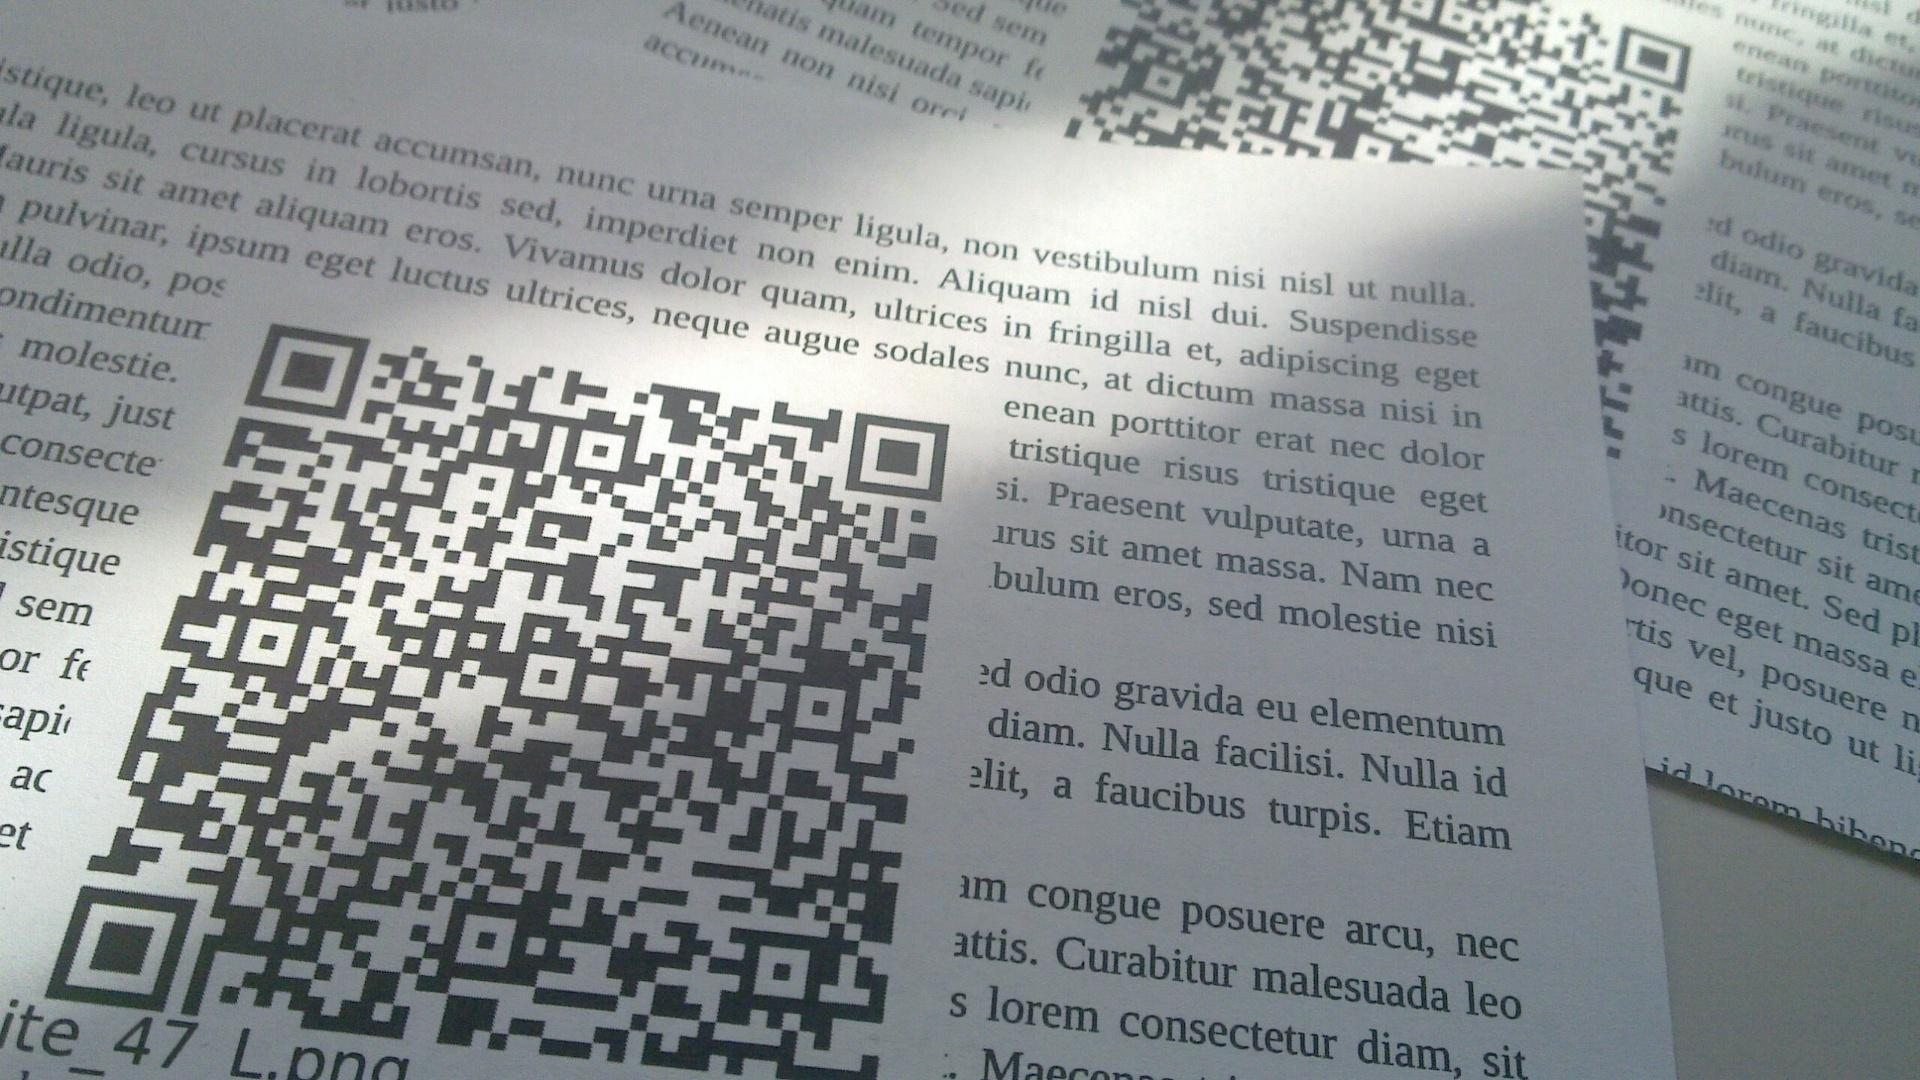qr_code: (44, 323, 952, 1080)
